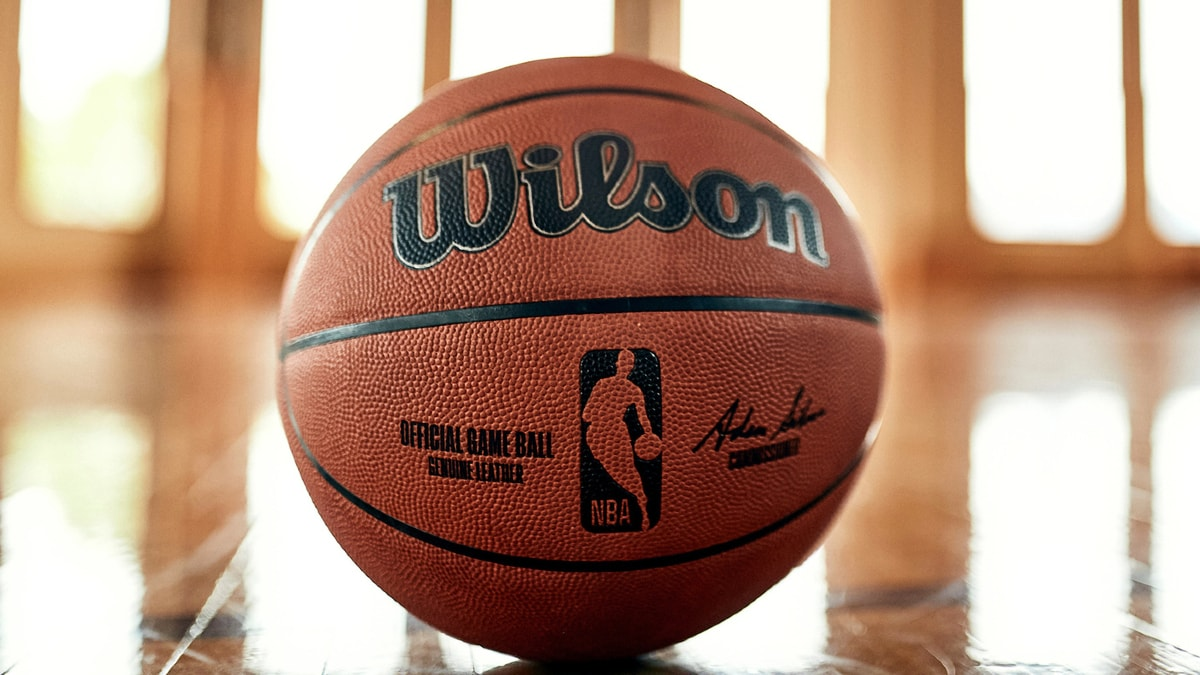sphere: (277, 56, 890, 656)
